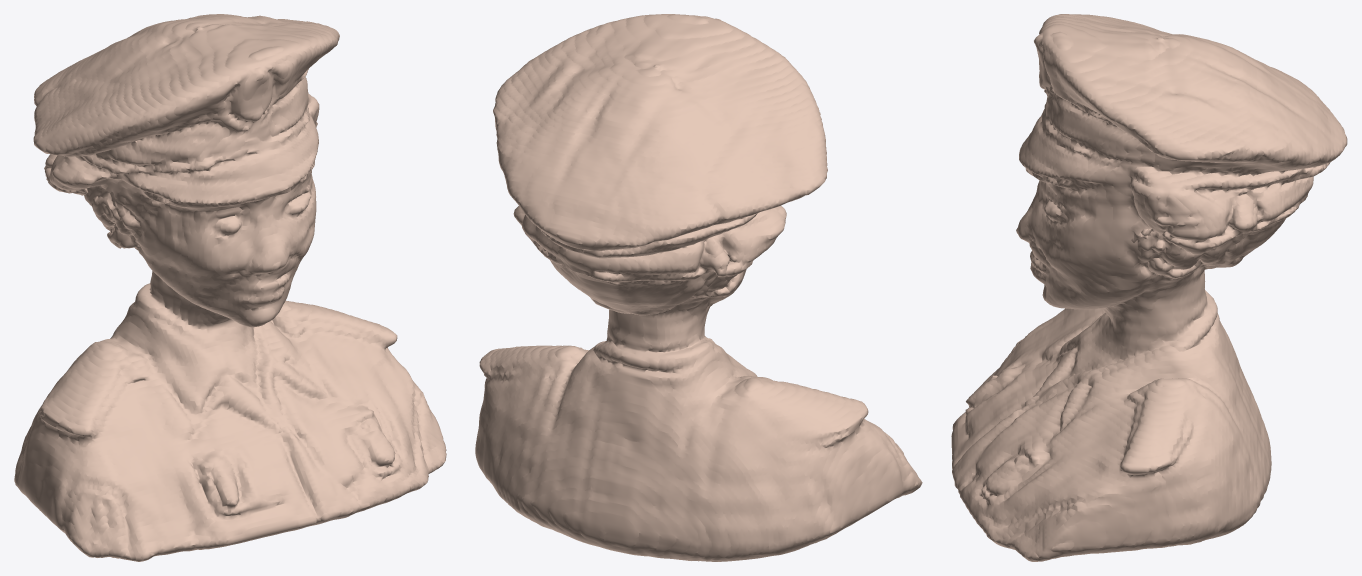
Rendered from hypothesis_triposr.glb.
3 views of the same model, side by side, from view 1: azimuth 30°, elevation 25°; view 2: azimuth 150°, elevation 25°; view 3: azimuth 270°, elevation 25° (orthographic).
Parts seen in each view (by area): view 1: hypothesis-triposr; view 2: hypothesis-triposr; view 3: hypothesis-triposr.
Part boxes in pixels (<box>): hypothesis-triposr: <box>14,14,446,561</box>; hypothesis-triposr: <box>475,14,922,561</box>; hypothesis-triposr: <box>951,14,1347,561</box>.
Size of the model in its own units: 0.8657 by 0.9839 by 0.7676.
